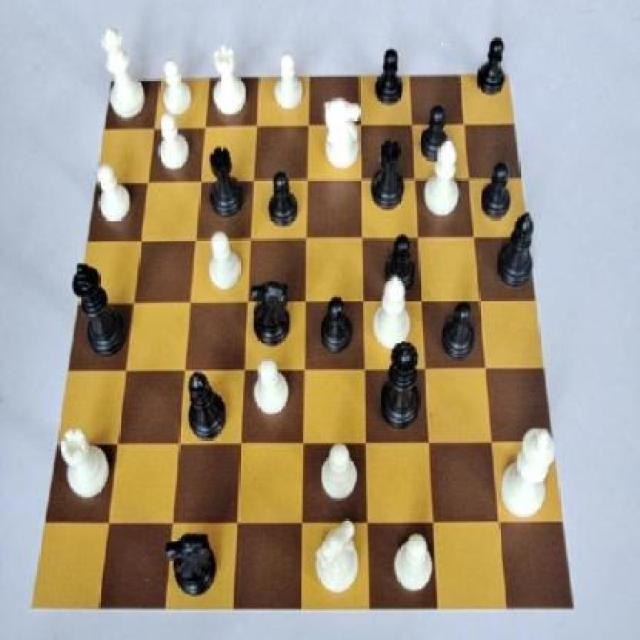bishop: (494, 197, 538, 295), (178, 364, 230, 446)
black-bishop: (68, 256, 130, 366)
black-king: (162, 524, 223, 606), (245, 272, 296, 357)
black-knight: (469, 28, 520, 98), (434, 291, 480, 363), (417, 95, 461, 168), (317, 286, 358, 361), (377, 231, 421, 298), (477, 154, 515, 231), (264, 166, 304, 232), (374, 43, 406, 109)
black-pawn: (372, 340, 431, 443)
black-queen: (368, 135, 409, 224), (203, 148, 252, 220)
black-rook: (371, 268, 415, 359), (425, 137, 463, 223)
white-bishop: (498, 414, 561, 525)
white-king: (311, 514, 367, 606), (318, 91, 364, 177)
white-knight: (392, 528, 440, 605), (314, 443, 364, 512), (202, 224, 249, 294), (249, 357, 297, 423), (265, 48, 307, 119), (154, 108, 195, 180), (92, 162, 135, 229), (158, 53, 200, 119)
white-pawn: (97, 15, 146, 126)
white-queen: (58, 423, 110, 503), (208, 43, 249, 119)
